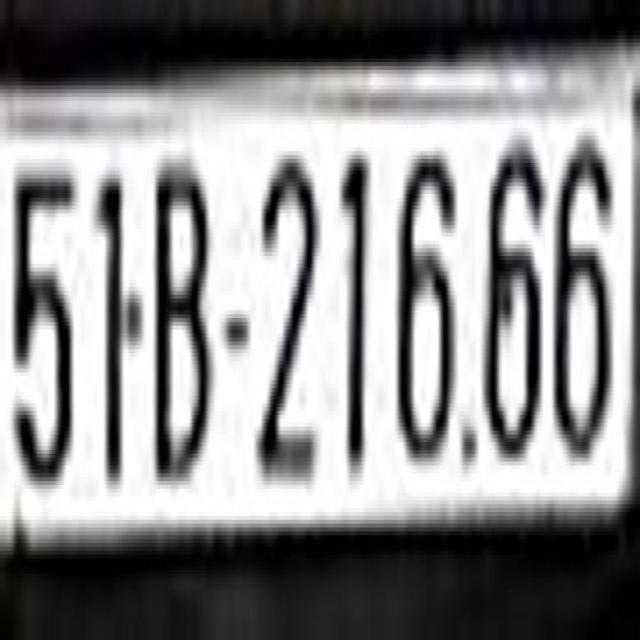1: (336, 124, 374, 484), (95, 151, 126, 485)
2: (258, 132, 320, 504)
5: (14, 159, 76, 489)
6: (554, 124, 618, 473), (396, 124, 456, 489), (487, 108, 547, 466)
B: (150, 144, 210, 492)
